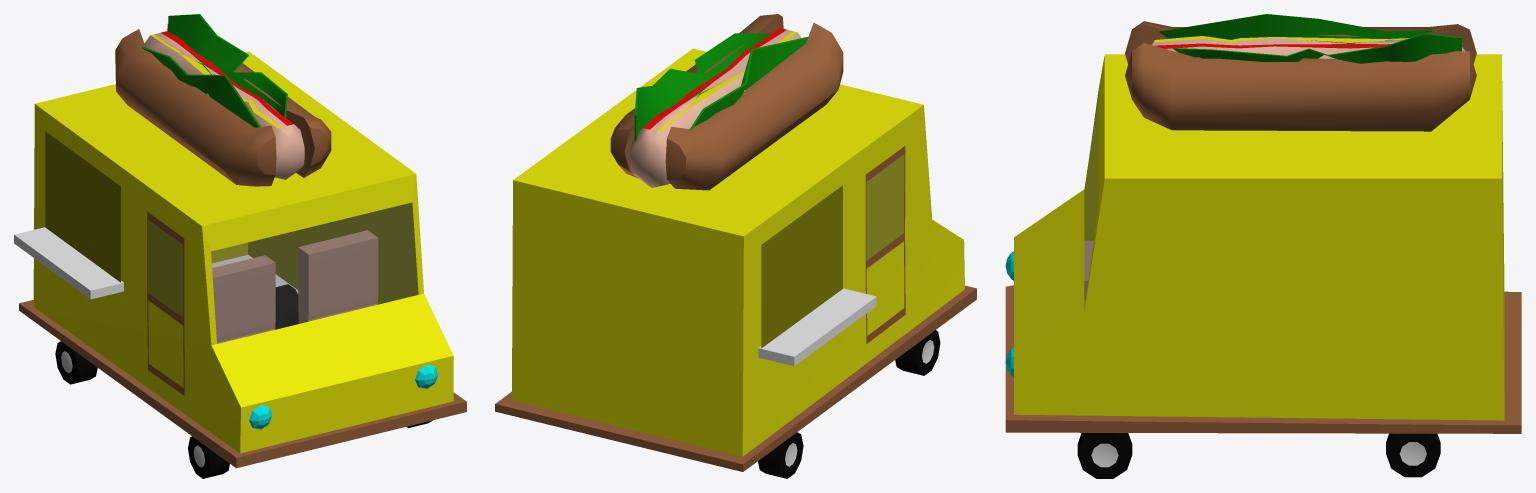
Rendered from Prop_HotDogVan.fbx.
3 renders of one model, left to right at view 1: azimuth 30°, elevation 25°; view 2: azimuth 150°, elevation 25°; view 3: azimuth 270°, elevation 25°, orthographic. The views are drawn at different scales.
Visible parts, largest first — view 1: Van, Bun, Window, Door, Chair1, Lettuce, Chair, Sausage, Wheel1, Wheel, Wheel3, Sauce (+1 smaller); view 2: Van, Bun, Window, Door, Lettuce, Sausage, Wheel1, Wheel, Sauce, Mustard; view 3: Van, Bun, Lettuce, Wheel2, Sausage, Wheel3, Sauce, Mustard.
Boxes of the visible parts, x1,y1,x2,y2 form: Van: (19, 51, 466, 468); Bun: (115, 24, 331, 186); Window: (45, 131, 120, 282); Door: (14, 212, 184, 395); Chair1: (298, 230, 378, 323); Lettuce: (141, 14, 287, 127); Chair: (212, 255, 275, 343); Sausage: (144, 33, 304, 179); Wheel1: (55, 341, 97, 384); Wheel: (188, 436, 229, 478); Wheel3: (275, 284, 298, 329); Sauce: (161, 31, 293, 125); Van: (495, 48, 976, 471); Bun: (610, 14, 843, 190); Window: (761, 185, 842, 348); Door: (758, 146, 905, 366); Lettuce: (634, 33, 808, 141); Sausage: (629, 29, 801, 187); Wheel1: (758, 432, 803, 478); Wheel: (895, 330, 940, 375); Sauce: (643, 28, 786, 129); Mustard: (657, 31, 797, 132); Van: (1005, 54, 1521, 433); Bun: (1125, 21, 1476, 131); Lettuce: (1159, 14, 1461, 63); Wheel2: (1077, 433, 1132, 478); Sausage: (1151, 38, 1465, 58); Wheel3: (1386, 433, 1440, 477); Sauce: (1154, 43, 1390, 48); Mustard: (1154, 36, 1408, 42).
Bounding box in the file's own units: 0.6454 × 0.7935 × 0.9457.
